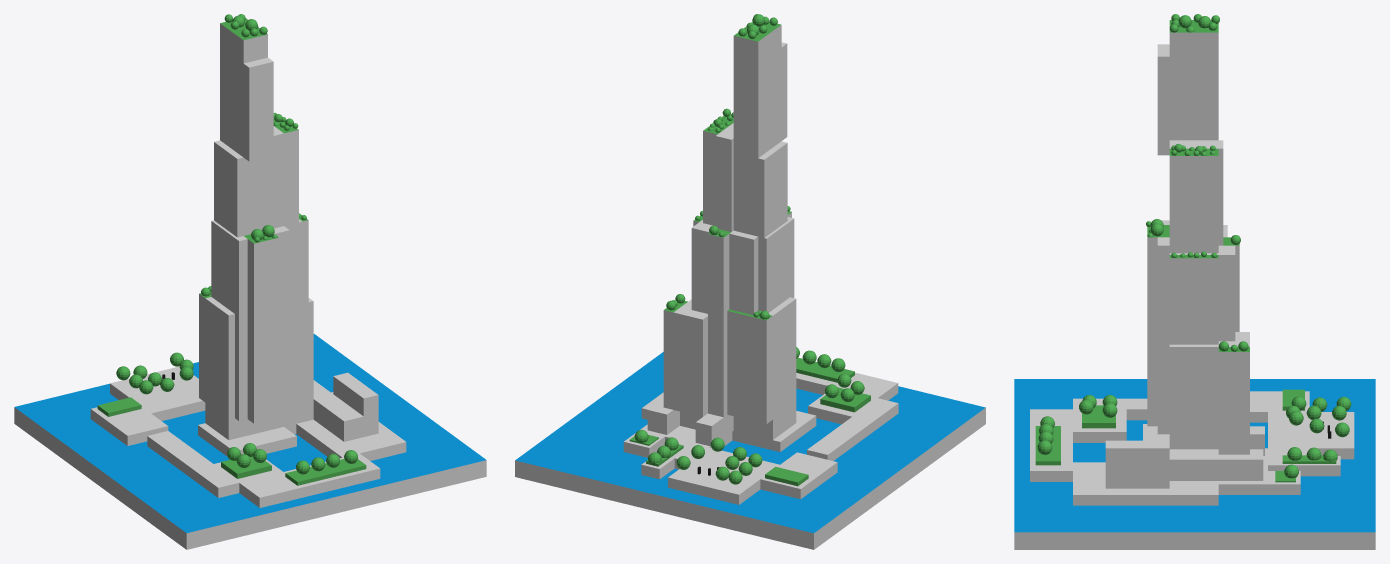
The picture shows the model from 3 angles, left to right: view 1: azimuth 30°, elevation 25°; view 2: azimuth 150°, elevation 25°; view 3: azimuth 270°, elevation 25°; orthographic projection. The views are drawn at different scales.
Parts seen in each view (by area): view 1: mesh_958685669, mesh_423552314, mesh_275467019, mesh_1366332164; view 2: mesh_958685669, mesh_423552314, mesh_275467019, mesh_1366332164; view 3: mesh_958685669, mesh_423552314, mesh_275467019, mesh_1366332164.
Boxes of the visible parts, <box> form: mesh_958685669: <box>90,18,406,507</box>; mesh_423552314: <box>14,334,486,549</box>; mesh_275467019: <box>285,459,366,485</box>; mesh_1366332164: <box>221,456,271,478</box>; mesh_958685669: <box>623,22,898,504</box>; mesh_423552314: <box>515,352,985,549</box>; mesh_275467019: <box>796,357,854,382</box>; mesh_1366332164: <box>820,387,870,412</box>; mesh_958685669: <box>1030,20,1354,505</box>; mesh_423552314: <box>1014,379,1375,549</box>; mesh_275467019: <box>1035,426,1060,465</box>; mesh_1366332164: <box>1082,405,1115,428</box>.
Bounding box in the file's own units: 244 × 338 × 243.
